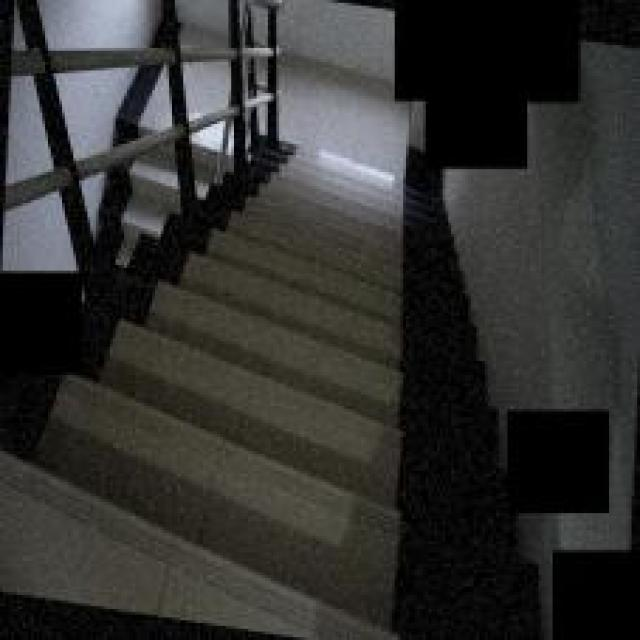downstair: (195, 206, 437, 614)
